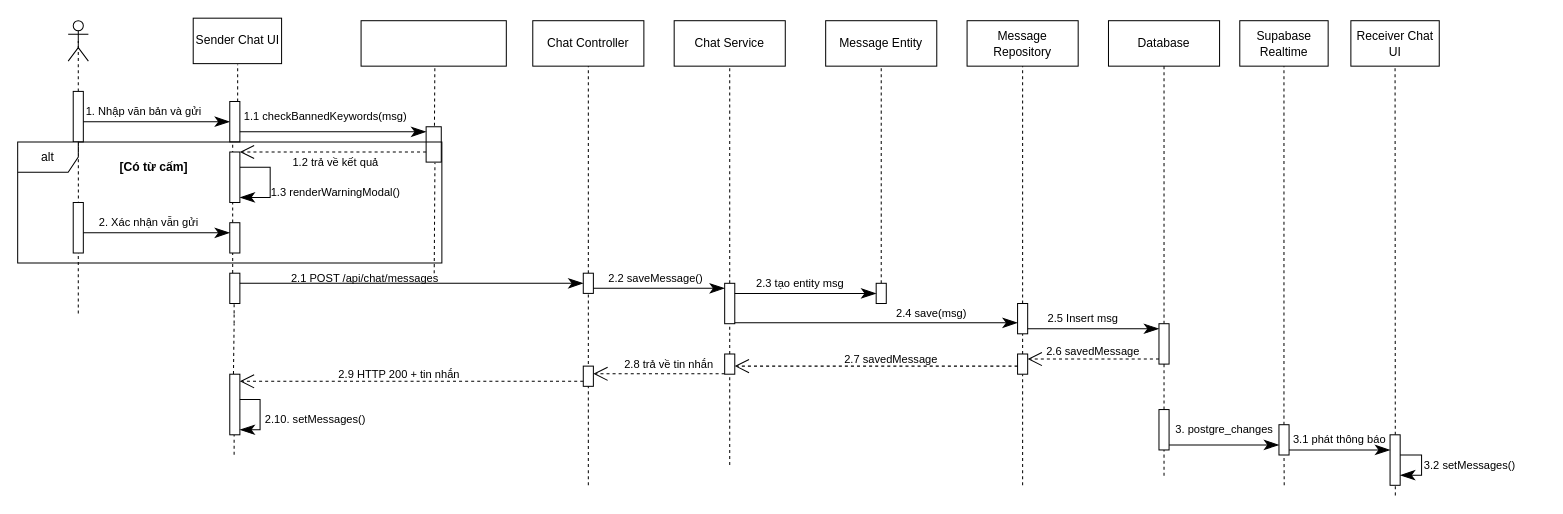
The diagram is 1563 pixels wide and 514 high, and some of its shapes have lost their labels. Here are the shapes that lost their labels. From the top down, the centre of each, then its label:
At pixel 77 40: "User".
At pixel 433 43: "BannedKeywordChecker".
